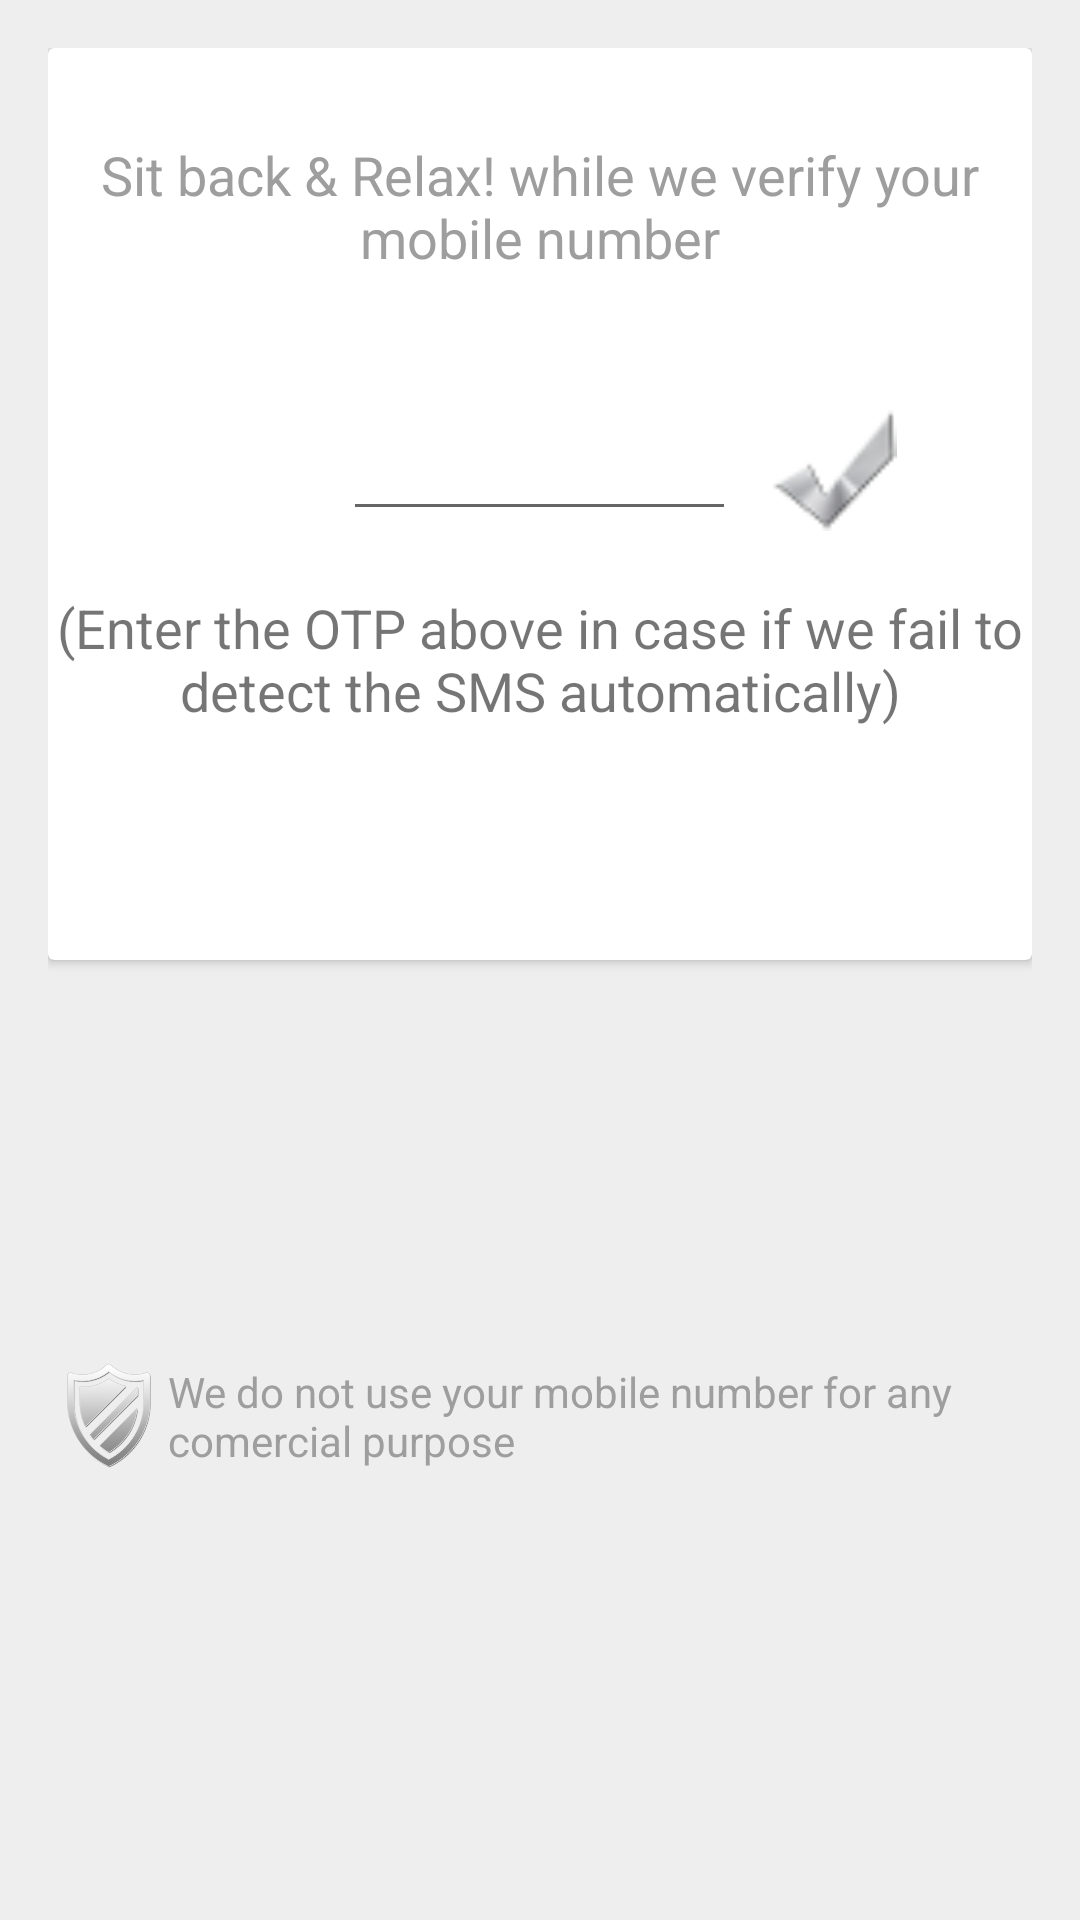

Icons on this 1080 × 1920 Android screen, each with the point to tap as point (x, y):
secure: point (109, 1418)
tick ok: point (836, 471)
